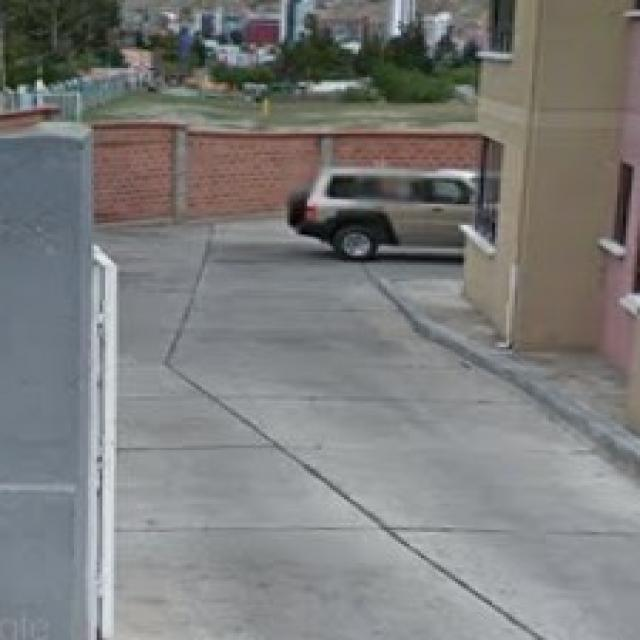Car: (291, 158, 488, 266)
